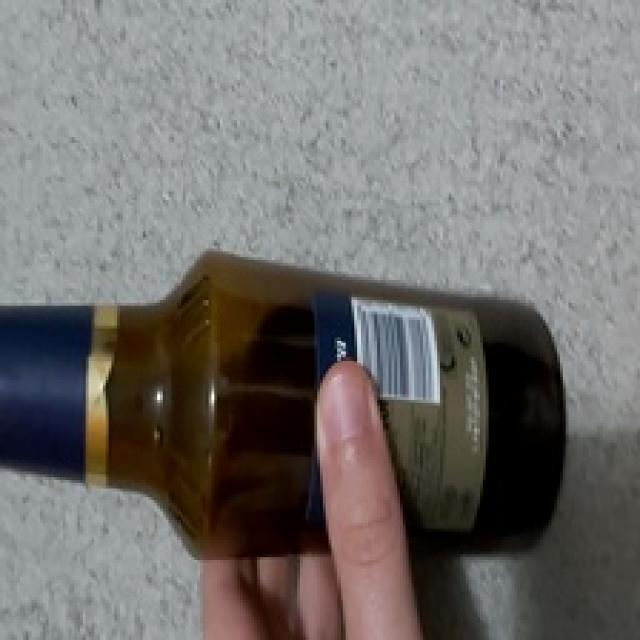Glass: (0, 248, 563, 558)
